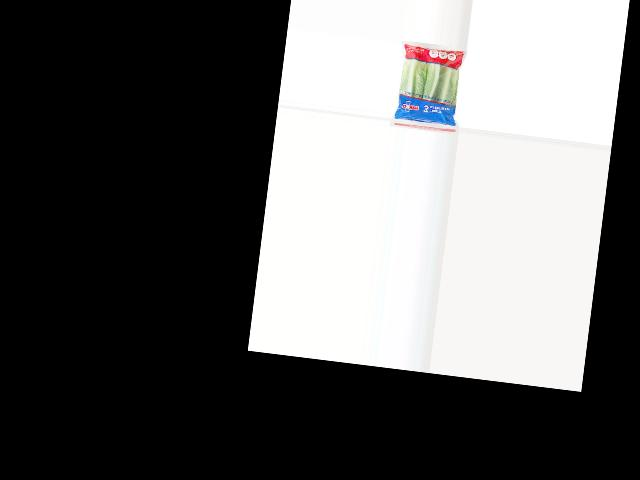lettuce: (390, 40, 465, 129)
